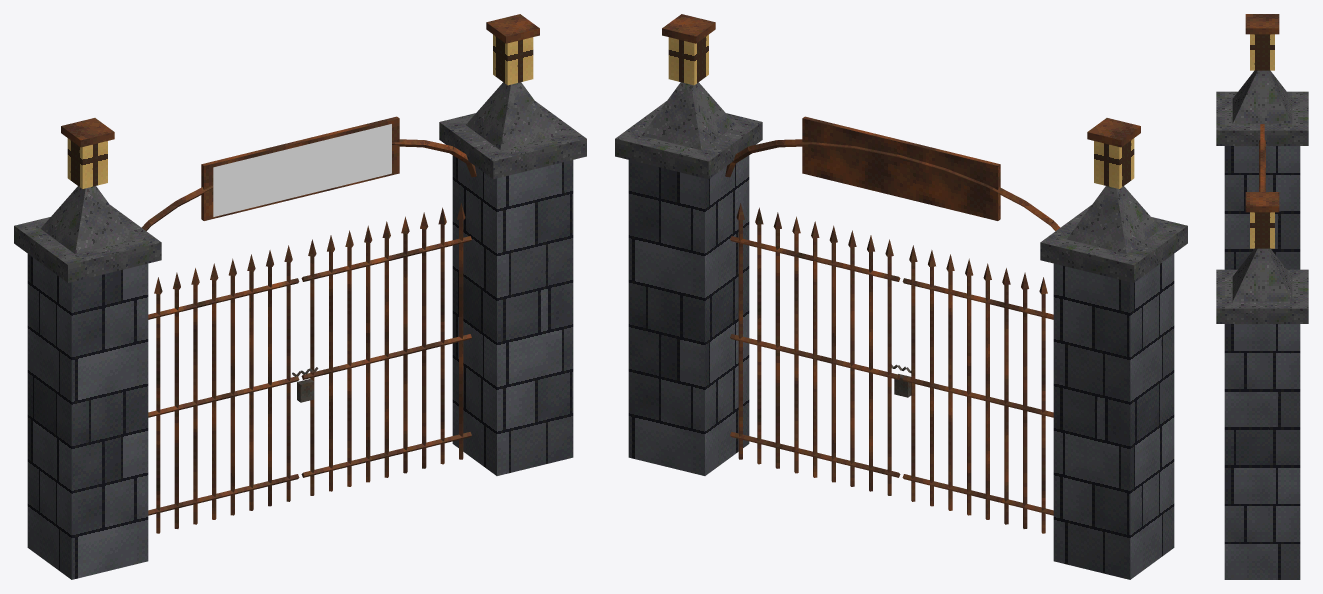
Rendered from puerta_dique.obj.
The picture shows the model from 3 angles, left to right: view 1: azimuth 30°, elevation 25°; view 2: azimuth 150°, elevation 25°; view 3: azimuth 270°, elevation 25°; orthographic projection. The views are drawn at different scales.
Visible parts, largest first — view 1: puerta_dique; view 2: puerta_dique; view 3: puerta_dique.
Boxes of the visible parts, <box> form: puerta_dique: <box>14,14,586,579</box>; puerta_dique: <box>615,14,1187,579</box>; puerta_dique: <box>1216,14,1308,579</box>.
Bounding box in the file's own units: 6.1 × 4.78 × 1.1.
Materials: 6 (5 with a texture image).
